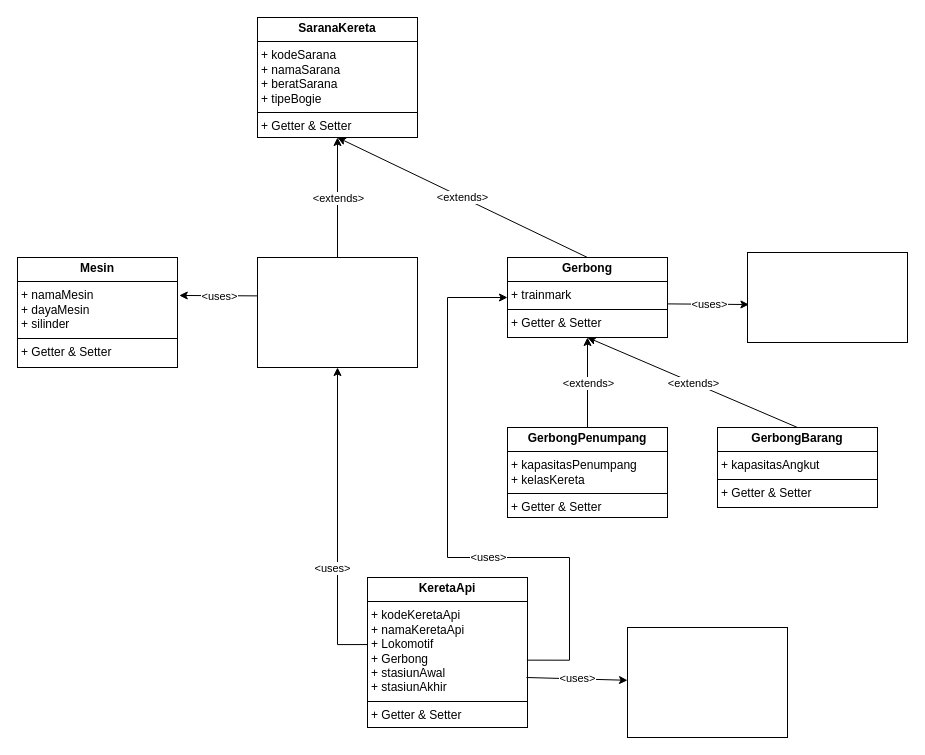
The diagram is 925 pixels wide and 755 high, and some of its shapes have lost their labels. Each missing label, with the centre of its shape:
Lokomotif + jenisMesin + konfigurasiGandar + jenisMotorTraksi + Getter & Setter: point 337,312
Stasiun + kodeStasiun + namaStasiun + jenisStasiun + Getter & Setter: point 707,682
Trainmark + kodeTrainmark + kecepatanMaks + Getter & Setter: point 827,297
